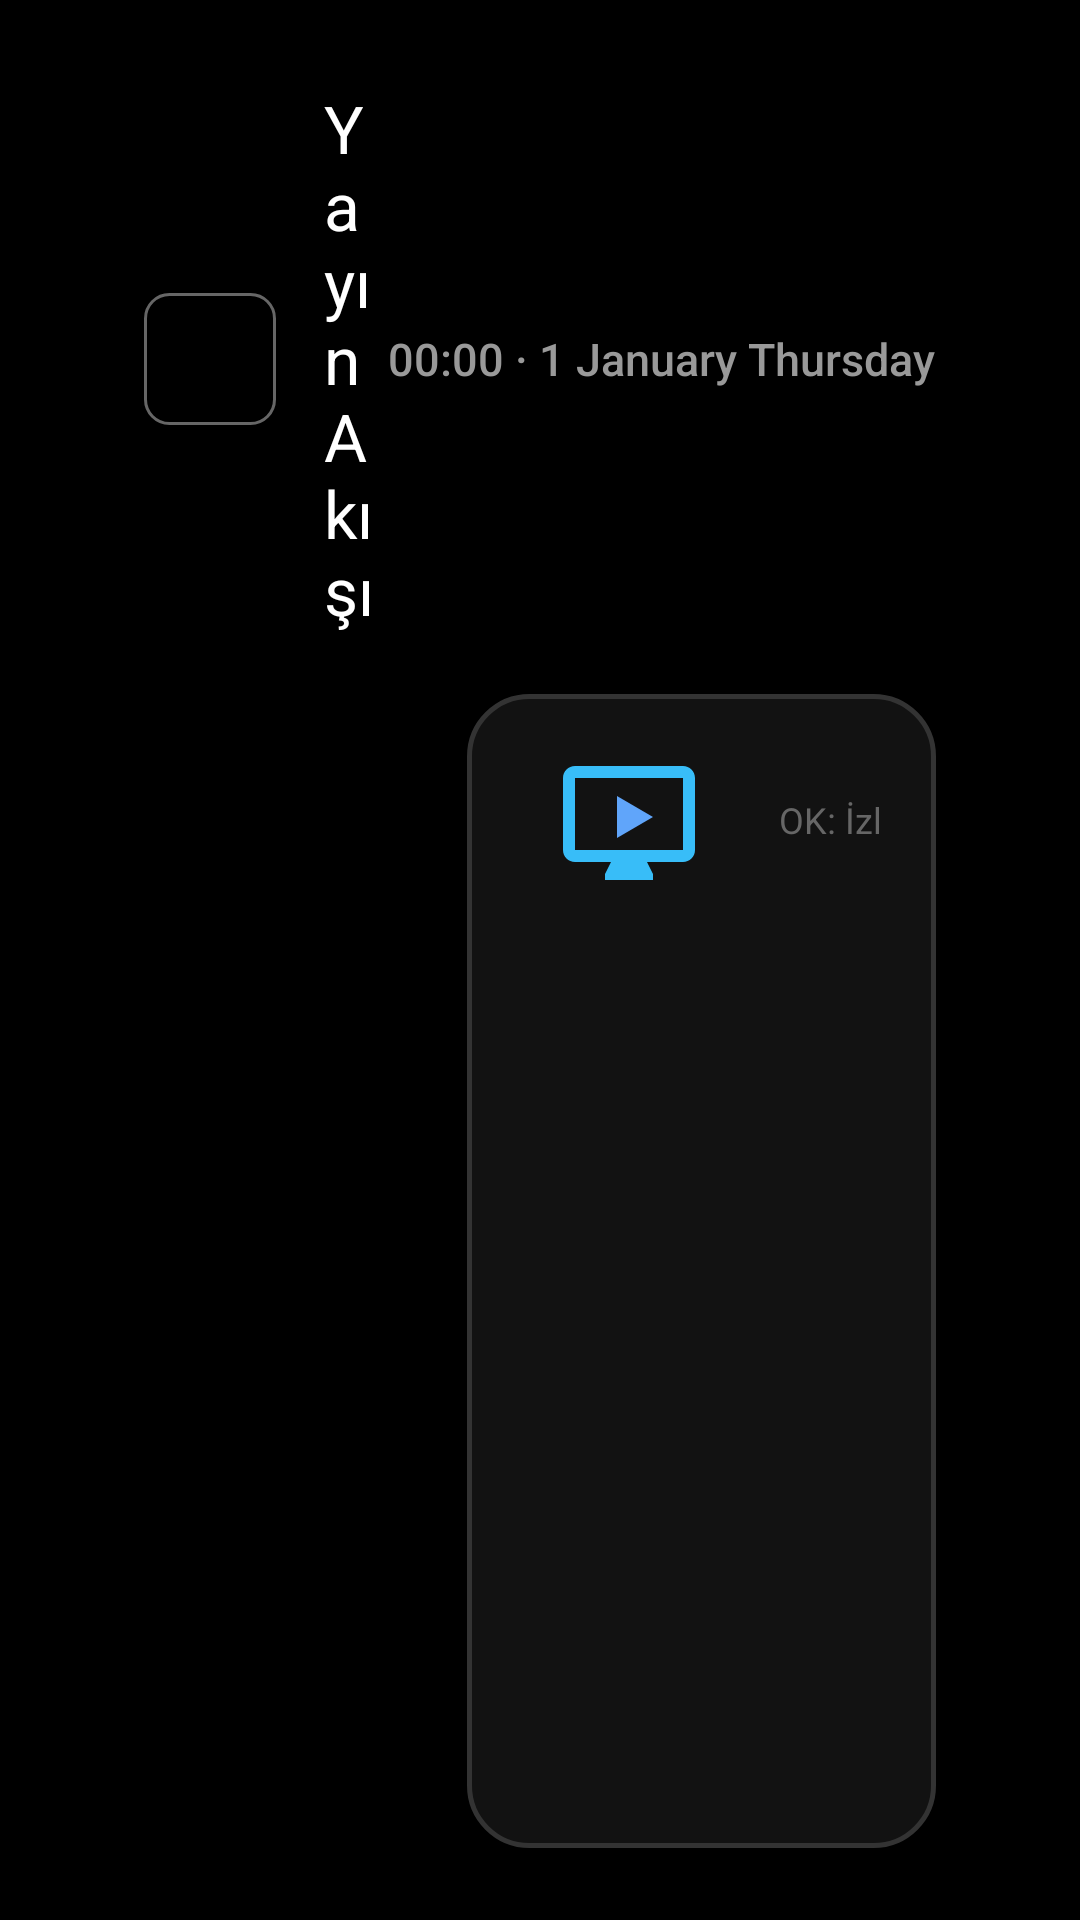

Where icons sit on this 1080 x 1920 app screen, as bbox(x1, y1, x2, y2):
Tüm Kanallar: bbox(563, 766, 695, 880)
